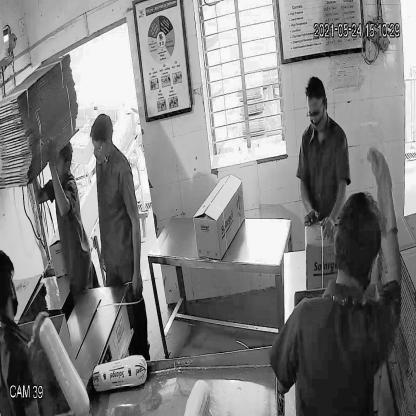goggles: (89, 137, 112, 155)
